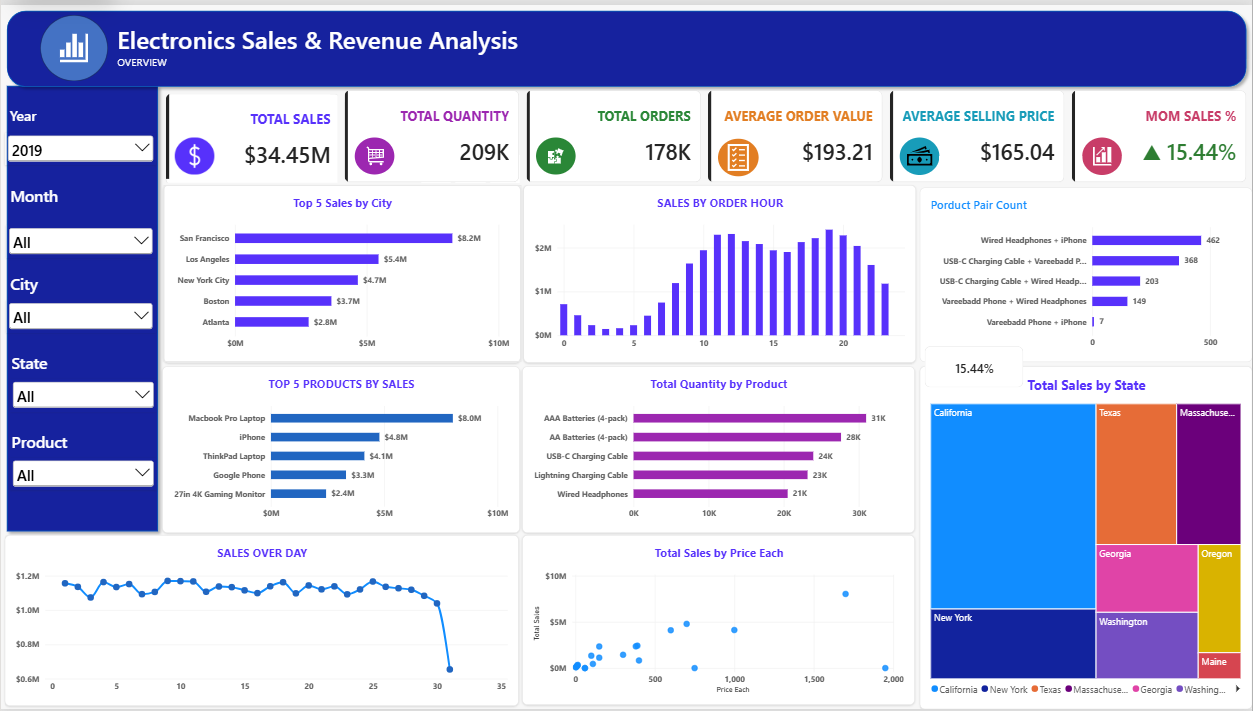

The dashboard page shown, as its layout file describes it:
{"tool":"powerbi","page":{"name":"Page 1","canvas":[1920,1080],"ordinal":0},"visuals":[{"type":"shape","box":[0,115.8,250,701.7],"z":0},{"type":"shape","box":[0,0,1920.4,134.6],"z":1000},{"type":"cardVisual","fields":{"Data":["Sales_Data.Total Sales","Sales_Data.Total Quantity","Sales_Data.Total Orders","Sales_Data.Average Order Value","Sales_Data.Average Selling Price","Sales_Data.Growth Display"]},"box":[246.7,130.8,1666.7,143],"z":2000,"group":"g1"},{"type":"textbox","box":[9,653.3,115.8,41.6],"z":3000},{"type":"slicer","fields":{"Values":["Calander.Date.Variation.Date Hierarchy.Year"]},"box":[5.7,195.7,232.9,50],"z":4000},{"type":"textbox","box":[8.3,411.7,141.7,40],"z":5000},{"type":"textbox","box":[9,533.8,101.3,39.8],"z":6000},{"type":"textbox","box":[8.4,275.5,205,40],"z":7000},{"type":"textbox","box":[8.4,155.7,205,40],"z":8000},{"type":"slicer","fields":{"Values":["Calander.Date.Variation.Date Hierarchy.Month"]},"box":[8.6,337.1,230,50],"z":9000},{"type":"slicer","fields":{"Values":["Sales_Data.City"]},"box":[8.6,452.9,230,50],"z":10000},{"type":"slicer","fields":{"Values":["Sales_Data.State"]},"box":[12.9,574.3,225.7,50],"z":11000},{"type":"slicer","fields":{"Values":["Sales_Data.Product"]},"box":[12.9,694.3,225.7,50],"z":12000},{"type":"textbox","box":[179.2,27.1,1740.9,79.6],"z":13000},{"type":"lineChart","title":"SALES OVER DAY","fields":{"Category":["Calander.Date.Variation.Date Hierarchy.Day"],"Y":["Sales_Data.Total Sales"]},"box":[5.4,812.5,789,262.4],"z":14000},{"type":"clusteredColumnChart","title":"SALES BY ORDER HOUR","fields":{"Category":["Sales_Data.Hour"],"Y":["Sales_Data.Total Sales"]},"box":[801.7,275.8,602.5,272.5],"z":15000},{"type":"clusteredBarChart","title":"TOP 5 PRODUCTS BY SALES","fields":{"Category":["Sales_Data.Product"],"Y":["Sales_Data.Total Sales"]},"box":[246.5,554.2,548.7,255.8],"z":17000},{"type":"clusteredBarChart","fields":{"Category":["Sales_Data.Product"],"Y":["Sales_Data.Total Quantity"]},"box":[800.8,554.2,602.4,255.8],"z":18000},{"type":"clusteredBarChart","title":"Top 5 Sales by City","fields":{"Category":["Sales_Data.City"],"Y":["Sales_Data.Total Sales"]},"box":[250,275.8,548.3,272.5],"z":19000},{"type":"scatterChart","fields":{"X":["Sales_Data.Price Each"],"Y":["Sales_Data.Total Sales"]},"box":[799.9,812.5,602.6,260.6],"z":20000},{"type":"treemap","fields":{"Group":["Sales_Data.State"],"Values":["Sales_Data.Total Sales"]},"box":[1409.7,553.8,510.3,526.6],"z":21000},{"type":"image","box":[255.4,204,80,57],"z":22000,"group":"g1"},{"type":"image","box":[532.3,204,80,57],"z":23000,"group":"g1"},{"type":"image","box":[1090.8,204.8,80,57.9],"z":24000,"group":"g1"},{"type":"image","box":[811.6,204,80,57],"z":25000,"group":"g1"},{"type":"image","box":[1369.3,203.2,80,57.9],"z":26000,"group":"g1"},{"type":"image","box":[1648.5,204,80,57.9],"z":27000,"group":"g1"},{"type":"clusteredBarChart","title":"Porduct Pair Count","fields":{"Category":["Sales_Data (2).Product Pair"],"Y":["Sales_Data (2).Pair Count"]},"box":[1410,280,510,267.8],"z":27001},{"type":"image","box":[43.4,16.3,135.7,101.3],"z":27002},{"type":"group","id":"g1","title":"Group 1","box":[246.7,130.8,1666.7,143],"z":27003},{"type":"cardVisual","fields":{"Data":["Sales_Data.Sales Growth %"]},"box":[1417.8,523.7,151.6,63.3],"z":27004}]}

Visuals, with their boxes in screenshot pixels (x1, y1, x2, y2), scaled from the page's 1920x1080 canvas onto the 1255x711 screenshot:
shape: 0/76/163/538
shape: 0/0/1254/89
cardVisual - Sales_Data.Total Sales x Sales_Data.Total Quantity: 161/86/1251/180
textbox: 6/430/82/457
slicer - Calander.Date.Variation.Date Hierarchy.Year: 4/129/156/162
textbox: 5/271/98/297
textbox: 6/351/72/378
textbox: 5/181/139/208
textbox: 5/103/139/129
slicer - Calander.Date.Variation.Date Hierarchy.Month: 6/222/156/255
slicer - Sales_Data.City: 6/298/156/331
slicer - Sales_Data.State: 8/378/156/411
slicer - Sales_Data.Product: 8/457/156/490
textbox: 117/18/1254/70
"SALES OVER DAY" lineChart: 4/535/519/708
"SALES BY ORDER HOUR" clusteredColumnChart: 524/182/918/361
"TOP 5 PRODUCTS BY SALES" clusteredBarChart: 161/365/520/533
clusteredBarChart - Sales_Data.Product x Sales_Data.Total Quantity: 523/365/917/533
"Top 5 Sales by City" clusteredBarChart: 163/182/522/361
scatterChart - Sales_Data.Price Each x Sales_Data.Total Sales: 523/535/917/706
treemap - Sales_Data.State x Sales_Data.Total Sales: 921/365/1254/710
image: 167/134/219/172
image: 348/134/400/172
image: 713/135/765/173
image: 530/134/583/172
image: 895/134/947/172
image: 1078/134/1130/172
"Porduct Pair Count" clusteredBarChart: 922/184/1254/361
image: 28/11/117/77
"Group 1" group: 161/86/1251/180
cardVisual - Sales_Data.Sales Growth %: 927/345/1026/386
